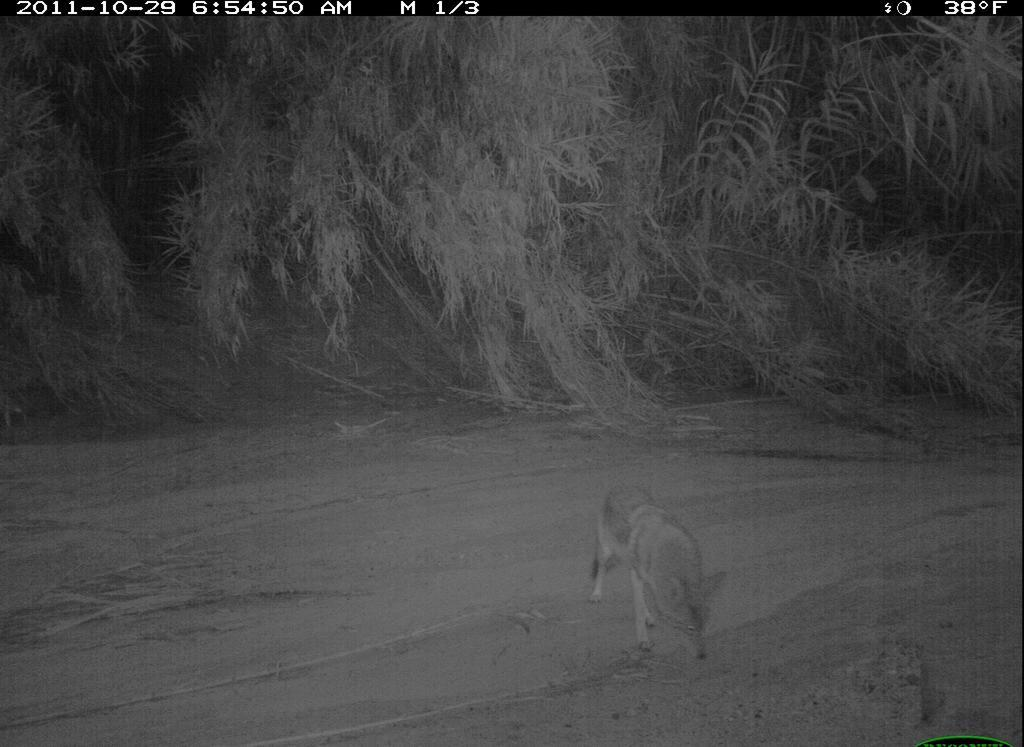coyote: (573, 472, 743, 676)
